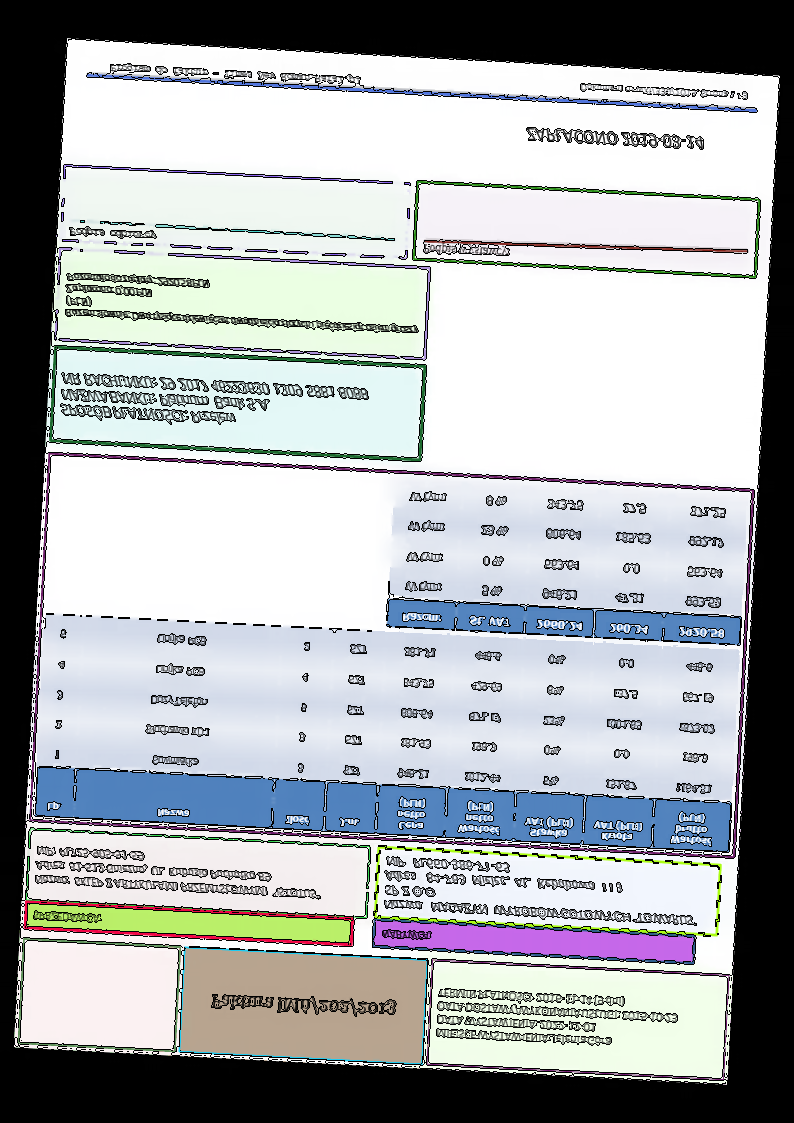Table: (33, 611, 739, 854), (385, 476, 748, 648)
TextBox: (63, 270, 422, 337), (381, 855, 701, 928), (57, 370, 370, 437), (433, 984, 681, 1053), (32, 844, 325, 901), (109, 60, 361, 87), (208, 987, 397, 1021), (523, 125, 705, 154), (577, 81, 750, 103), (422, 239, 511, 261), (66, 224, 160, 242), (31, 909, 102, 926), (380, 926, 433, 943)
